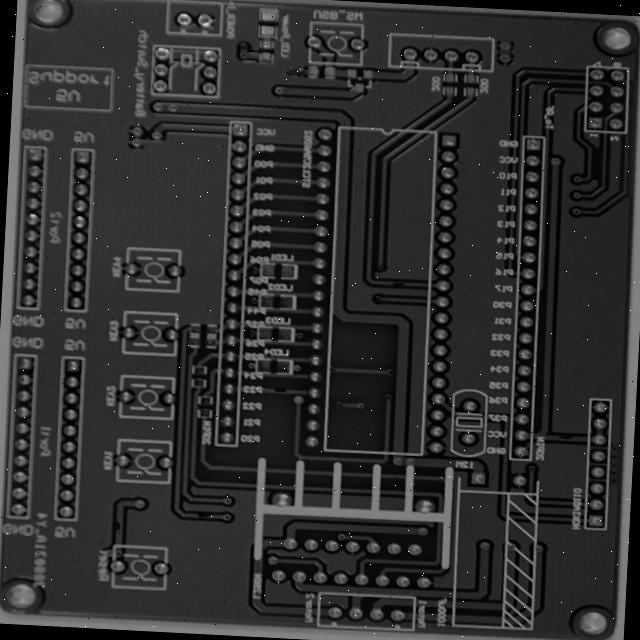mouse_bite: (217, 551, 240, 564), (124, 559, 139, 577), (301, 415, 323, 427), (437, 302, 457, 313), (621, 468, 633, 479)
